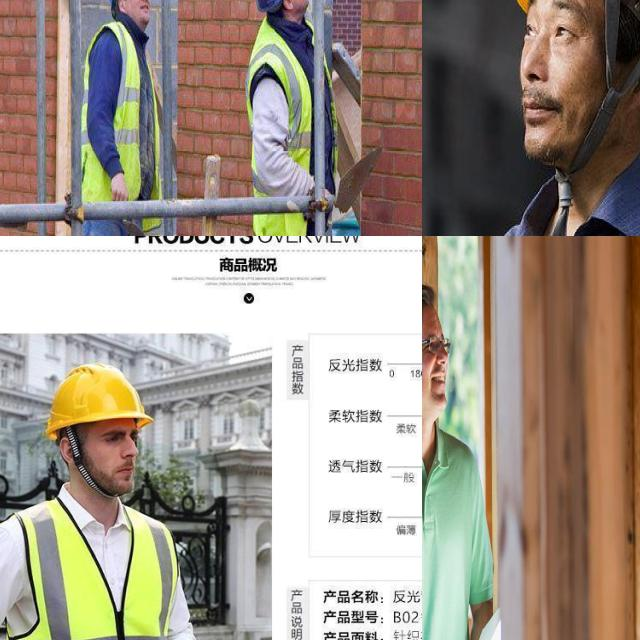No_Ear-Protection: (612, 77, 640, 125)
No_Glasses: (518, 0, 592, 52)
face_nomask: (520, 35, 605, 166), (80, 421, 146, 488), (422, 324, 454, 416), (125, 0, 157, 26)
glasses: (425, 327, 453, 359)
hand_noglove: (110, 174, 128, 217)
head_helmet: (47, 364, 156, 430)
head_nohelmet: (422, 274, 441, 323)
person: (0, 363, 198, 640), (422, 286, 498, 640), (246, 0, 343, 236), (82, 0, 163, 236)
vest: (11, 512, 186, 640), (80, 21, 162, 231), (244, 15, 311, 236)
